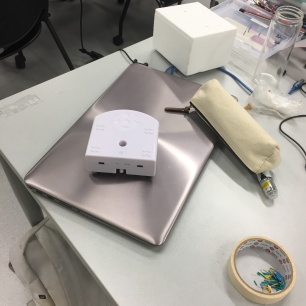thymio: (83, 102, 160, 182)
